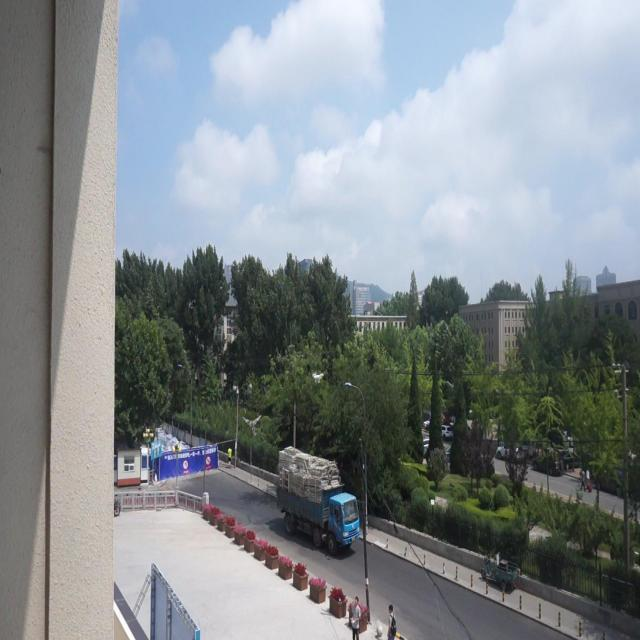UAV: (311, 373, 324, 383)
